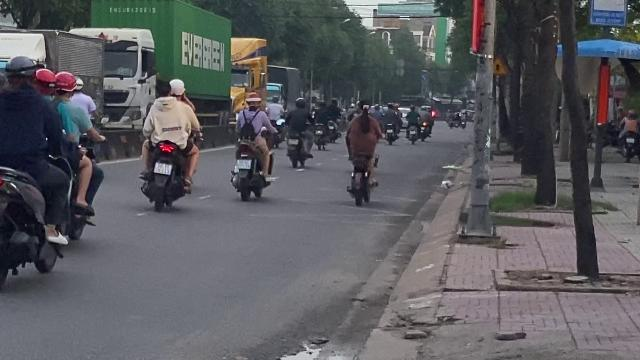helmet: (4, 54, 38, 88), (34, 68, 56, 96), (53, 71, 77, 96), (167, 78, 185, 98), (244, 90, 262, 110)
licenseplate: (154, 162, 172, 174), (237, 160, 251, 168)
motorcyclist: (0, 53, 102, 293), (136, 78, 200, 210), (230, 90, 276, 200), (340, 96, 384, 209)
nohelmet: (152, 78, 172, 102), (358, 98, 370, 116)
